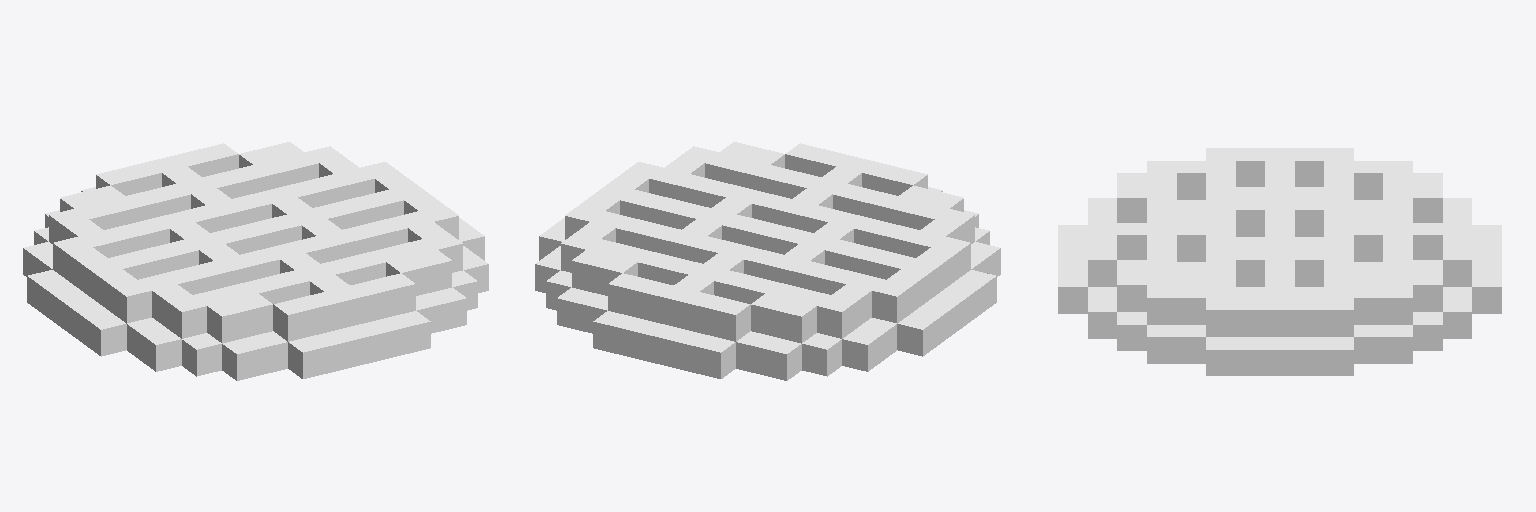
The model's file is egou.obj.
The picture shows the model from 3 angles: view 1: azimuth 30°, elevation 25°; view 2: azimuth 150°, elevation 25°; view 3: azimuth 270°, elevation 25°; orthographic projection.
Visible parts, largest first — view 1: object 1; view 2: object 1; view 3: object 1.
Part boxes in pixels (x1,y1,x2,y2): object 1: (23,142,488,380); object 1: (535,142,1000,380); object 1: (1058,148,1501,375).
Size of the model in its own units: 1.5 by 0.2 by 1.5.